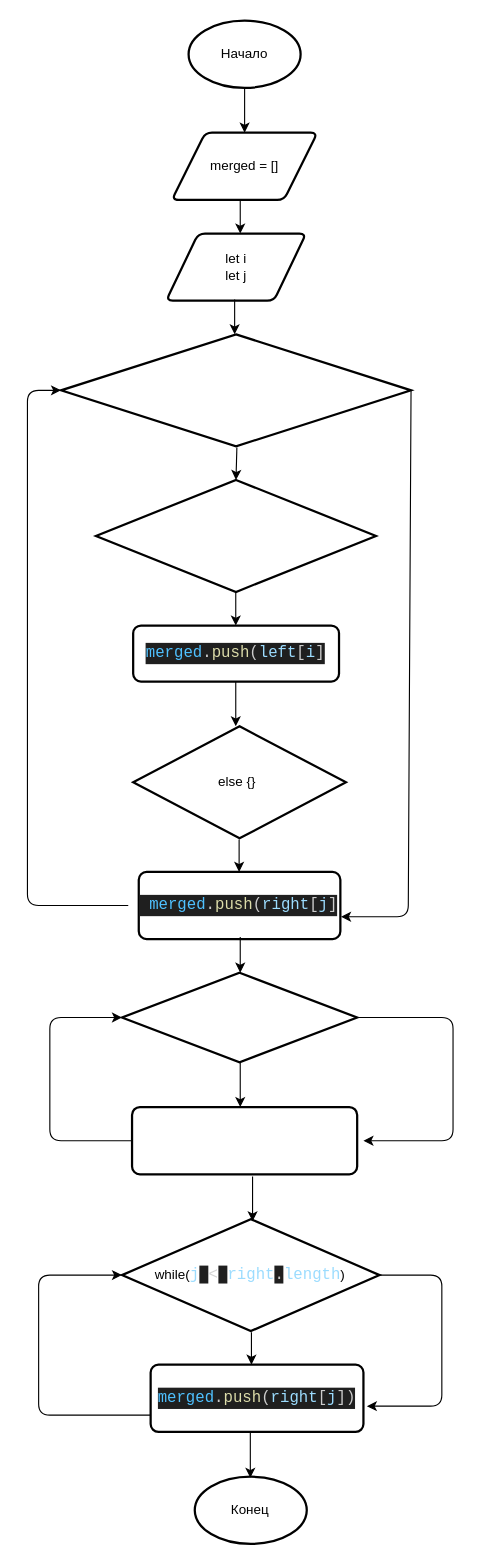
Some shapes in this 482 by 1564 pixel diagram are drawn without their labels. Each missing label, with the centre of its shape:
if ( left [ i ] < right [ j ] ): (x=235, y=535)
merged . push ( left [ i ]);: (x=244, y=1140)
while( i < left . length ): (x=239, y=1017)
while( i < left [ i ] && j < right [ j ] ): (x=235, y=390)
